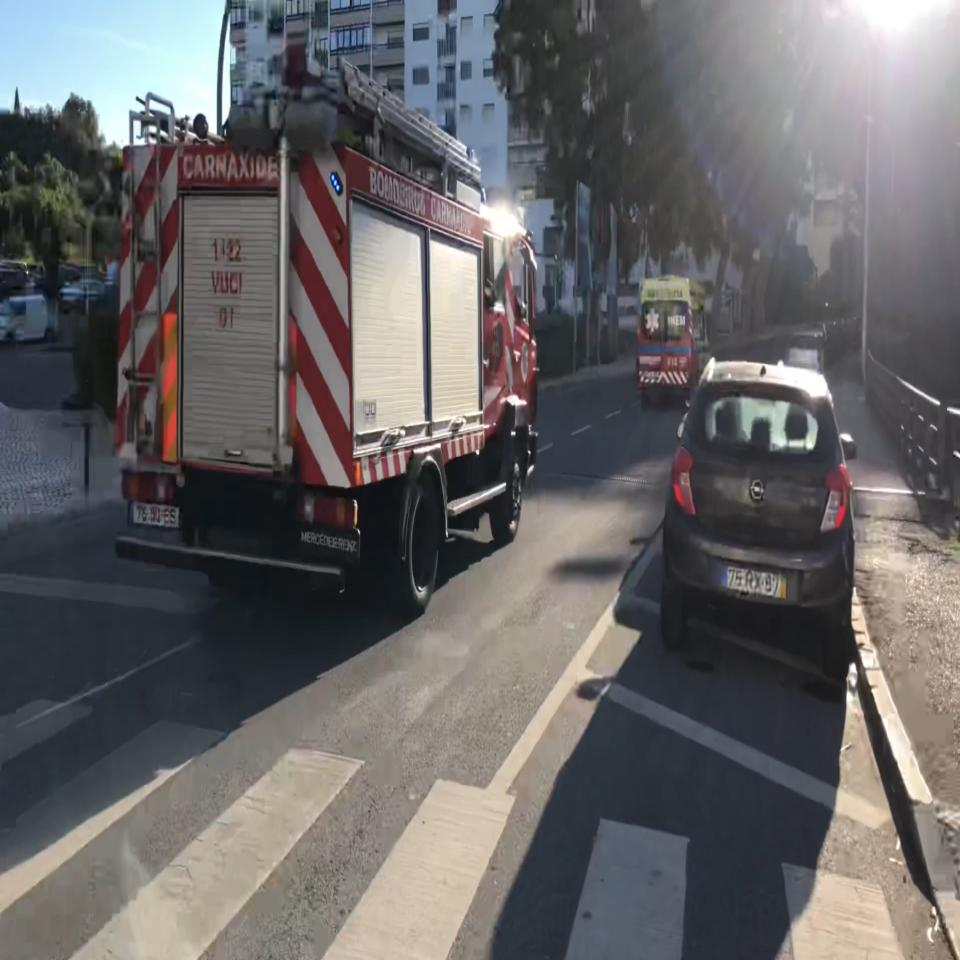viatura: (116, 54, 562, 626)
